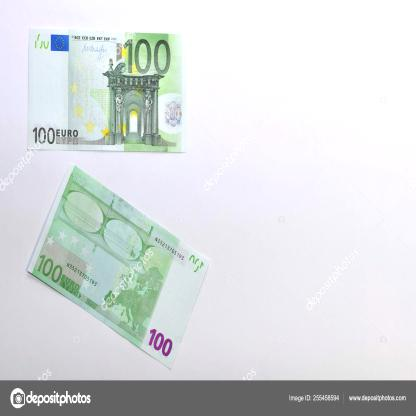euro_banknote: (27, 210, 218, 325), (28, 30, 185, 150)
